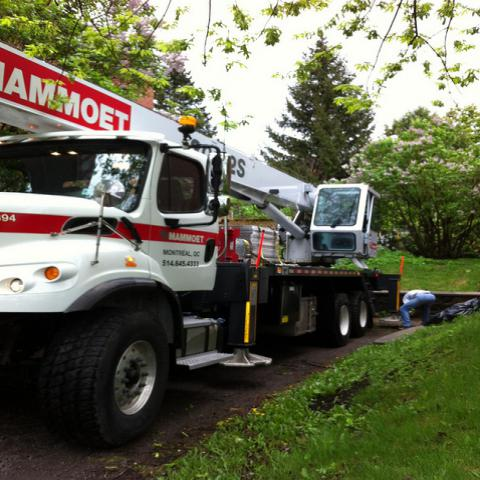truck: (0, 133, 401, 447)
